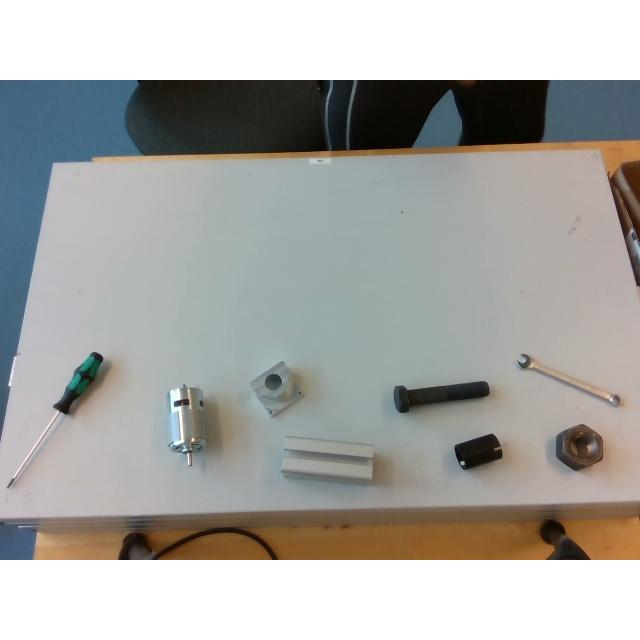M20_100: (394, 381, 490, 412)
M30: (556, 424, 604, 470)
Motor2: (166, 386, 206, 466)
S40_40_G: (281, 436, 373, 480)
Screwdriver: (5, 352, 103, 488)
